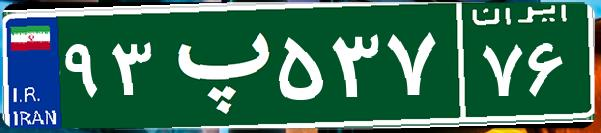3: (330, 28, 385, 110), (110, 28, 158, 105)
5: (273, 28, 330, 110)
6: (525, 38, 570, 115)
7: (385, 28, 445, 110), (475, 38, 525, 113)
9: (57, 26, 110, 107)
پ: (158, 15, 273, 115)
